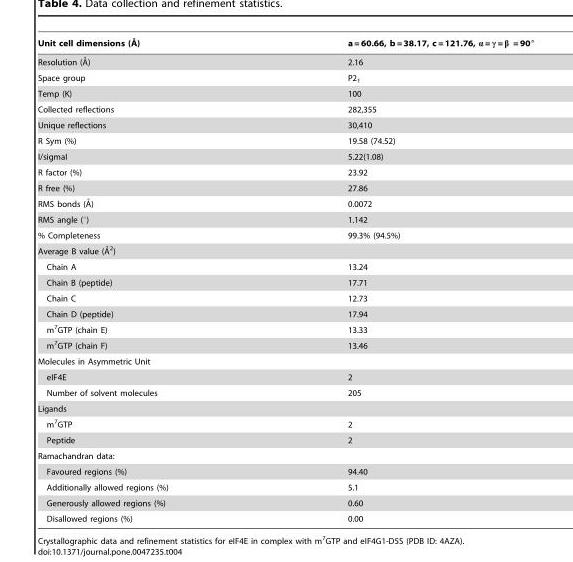table: (37, 36, 533, 522)
table column: (257, 36, 533, 522), (37, 36, 257, 522)
table column header: (37, 36, 533, 52)
table projected row header: (37, 242, 533, 258), (37, 353, 533, 369), (37, 447, 533, 463), (37, 400, 533, 415)
table row: (37, 52, 533, 69), (37, 194, 533, 211), (37, 336, 533, 353), (37, 415, 533, 432), (37, 36, 533, 52), (37, 69, 533, 85), (37, 85, 533, 101), (37, 101, 533, 117), (37, 132, 533, 148), (37, 148, 533, 164), (37, 164, 533, 180), (37, 211, 533, 227), (37, 242, 533, 258), (37, 258, 533, 274), (37, 274, 533, 290), (37, 290, 533, 306), (37, 320, 533, 336), (37, 353, 533, 369), (37, 384, 533, 400), (37, 447, 533, 463), (37, 463, 533, 479), (37, 479, 533, 495), (37, 117, 533, 132), (37, 227, 533, 242), (37, 369, 533, 384), (37, 400, 533, 415), (37, 432, 533, 447), (37, 495, 533, 510), (37, 180, 533, 194), (37, 306, 533, 320), (37, 510, 533, 522)
